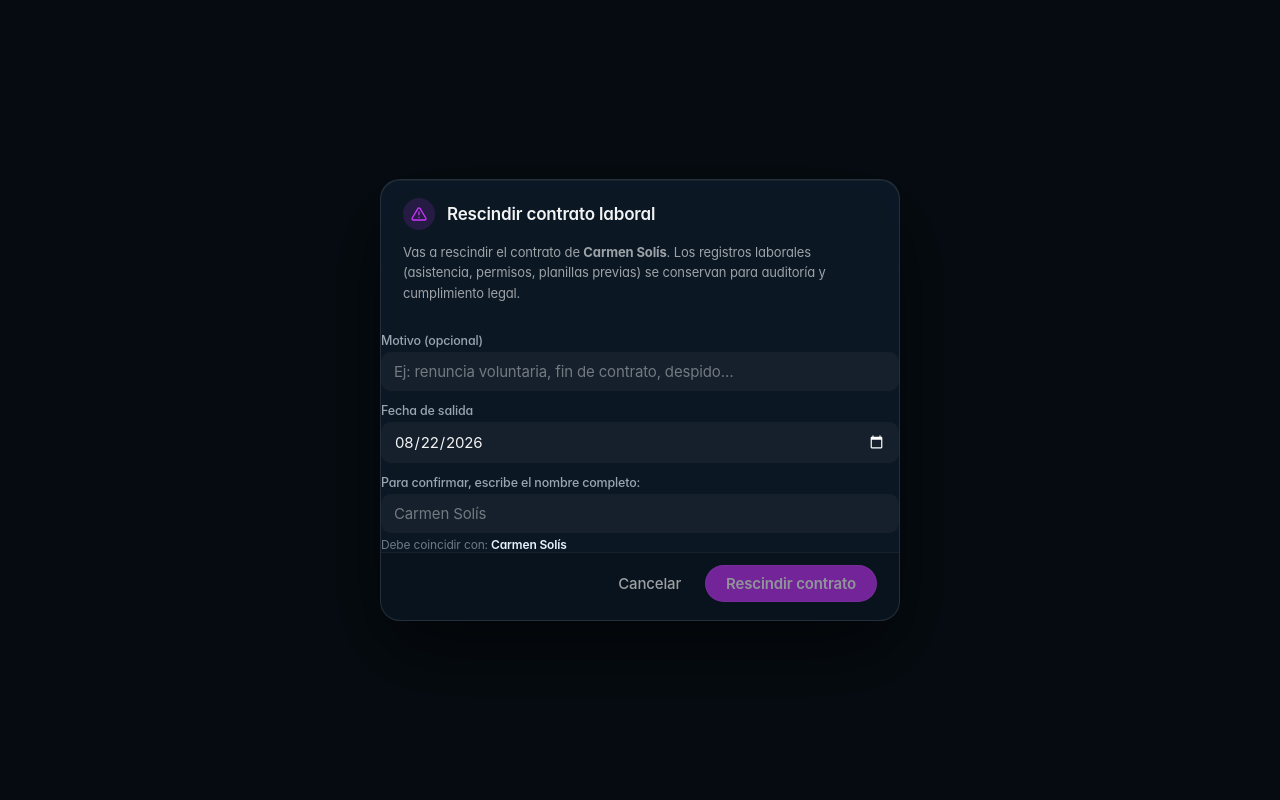
it: <EmployeeTerminationModal /> › confirm is disabled until the full name is typed exactly
This screenshot has width=1280, height=800.
Expected: the button "Rescindir contrato" is disabled, [705,565,877,602]
Type "carmen solís" into the field labelled "Para confirmar, escribe el nombre completo:" at {"x": 640, "y": 513}, box [381,494,899,533]
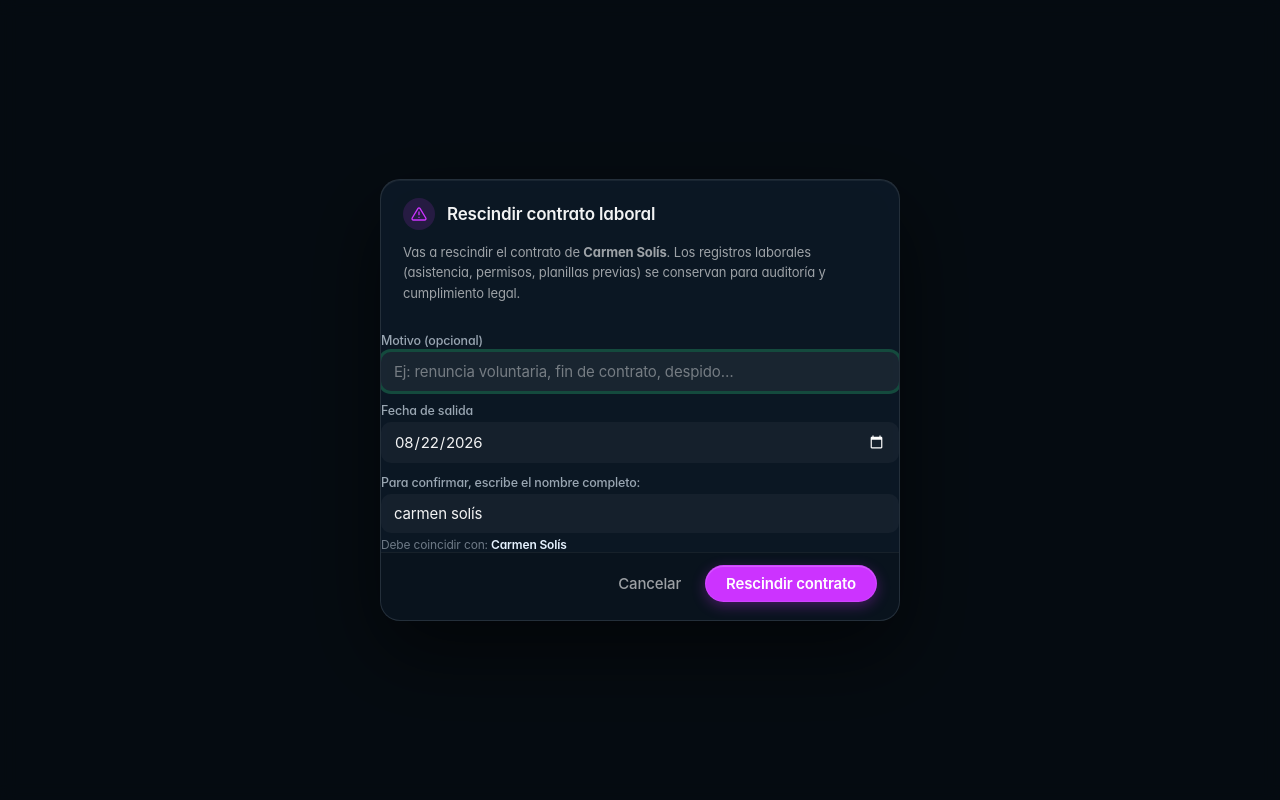
Expected: the button "Rescindir contrato" is enabled, [705,565,877,602]
